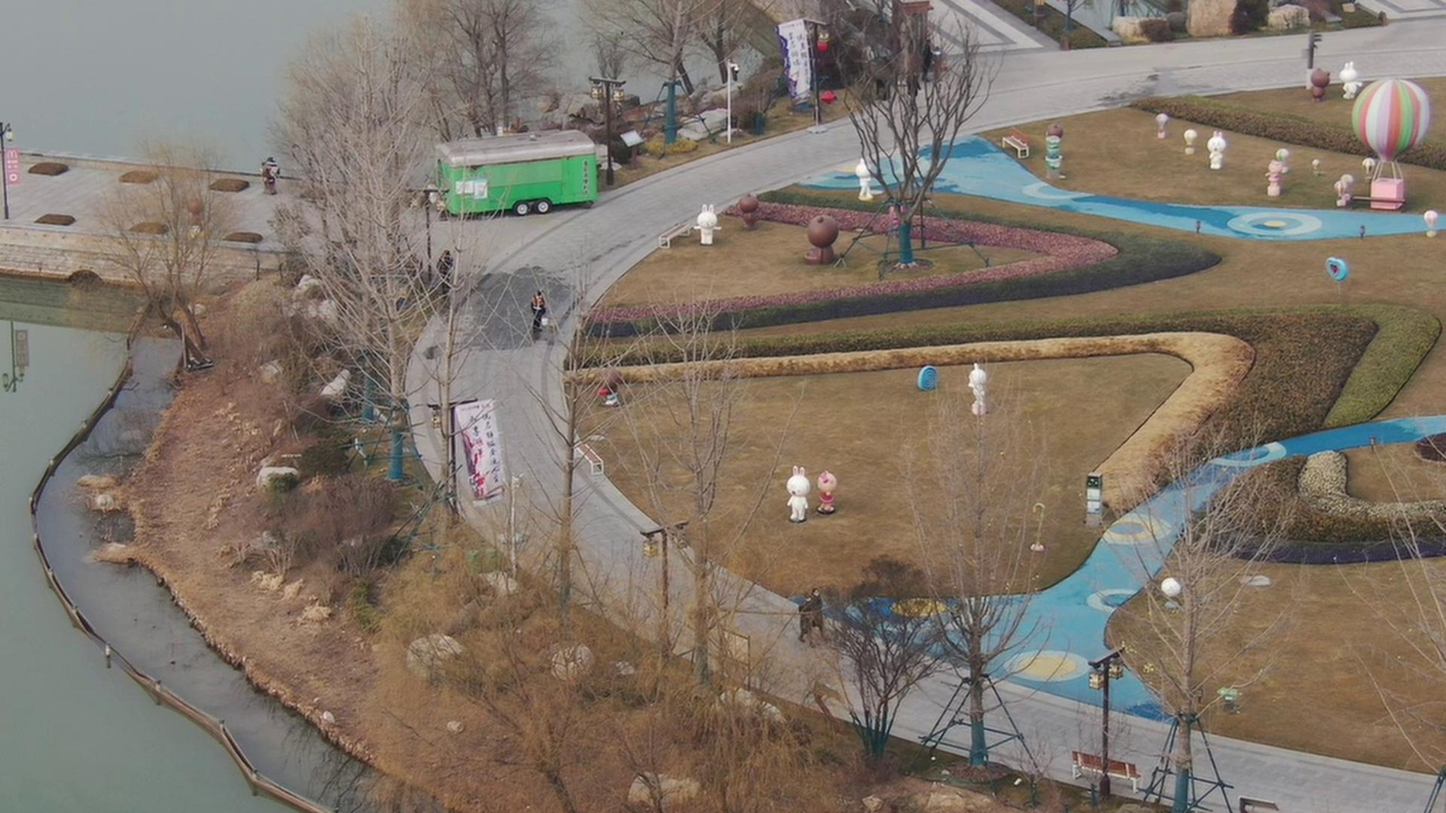class_2: (789, 585, 827, 650)
human: (430, 251, 457, 300), (523, 287, 545, 339)
